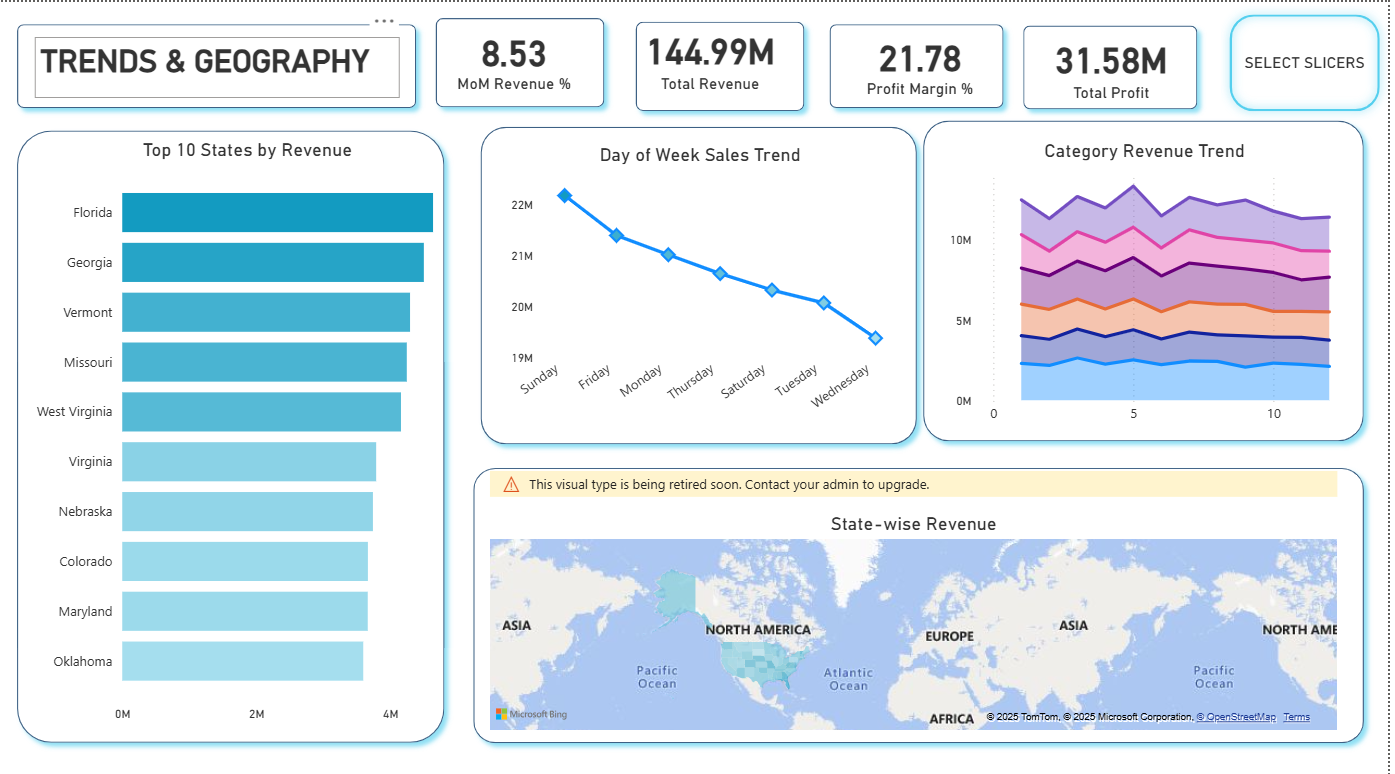

This screenshot's page, from the dashboard's own definition file:
{"tool":"powerbi","page":{"name":"TRENDS & GEOGRAPHY","canvas":[1280,720],"ordinal":3},"visuals":[{"type":"textbox","box":[10,0,408.6,62.9],"z":0},{"type":"filledMap","title":"State-wise Revenue","fields":{"Category":["warehouse dim_customers.state"],"Y":["warehouse fact_sales.Total Revenue"]},"box":[10,62.9,408.6,258.6],"z":1000},{"type":"clusteredBarChart","title":"Top 10 States by Revenue","fields":{"Y":["warehouse fact_sales.Total Revenue"],"Category":["warehouse dim_customers.state"]},"box":[10,332.5,409,259],"z":2000},{"type":"lineChart","title":"Day of Week Sales Trend","fields":{"Category":["warehouse dim_date.day_name"],"Y":["warehouse fact_sales.Total Revenue"]},"box":[450,21.4,410,258.6],"z":3000},{"type":"stackedAreaChart","title":"Category Revenue Trend","fields":{"Category":["warehouse dim_date.month"],"Series":["warehouse dim_products.category"],"Y":["warehouse fact_sales.Total Revenue"]},"box":[544.3,300,410,258.6],"z":4000},{"type":"slicer","title":"Date Range","fields":{"Values":["warehouse dim_date.full_date"]},"box":[630,558.6,372.9,141.4],"z":5000},{"type":"slicer","title":"State","fields":{"Values":["warehouse dim_customers.state"]},"box":[817.1,11.4,167.1,278.6],"z":6000},{"type":"slicer","title":"Product Category","fields":{"Values":["warehouse dim_products.category"]},"box":[1037.1,64.3,214.3,258.6],"z":7000},{"type":"slicer","title":"Payment Method","fields":{"Values":["warehouse dim_payment_method.payment_method_name"]},"box":[1037,323,214,236],"z":8000}]}

Visuals, with their boxes in screenshot pixels (x1, y1, x2, y2), scaled from the page's 1280x720 canvas onto the 1395x774 screenshot:
textbox: select_region(11, 0, 456, 68)
"State-wise Revenue" filledMap: select_region(11, 68, 456, 346)
"Top 10 States by Revenue" clusteredBarChart: select_region(11, 357, 457, 636)
"Day of Week Sales Trend" lineChart: select_region(490, 23, 937, 301)
"Category Revenue Trend" stackedAreaChart: select_region(593, 322, 1040, 600)
"Date Range" slicer: select_region(687, 600, 1093, 752)
"State" slicer: select_region(891, 12, 1073, 312)
"Product Category" slicer: select_region(1130, 69, 1364, 347)
"Payment Method" slicer: select_region(1130, 347, 1363, 601)
